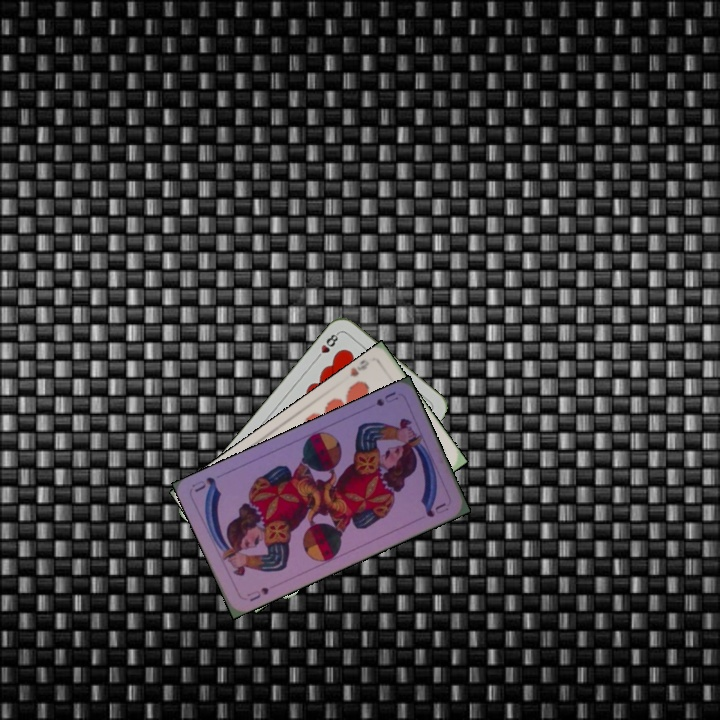H8: (312, 329, 342, 363)
H9: (346, 356, 372, 379)
SU: (372, 387, 400, 409), (243, 583, 271, 604)
